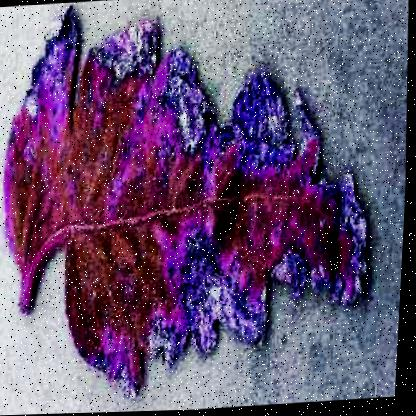BACTERIAL SPOT: (0, 0, 390, 414)
